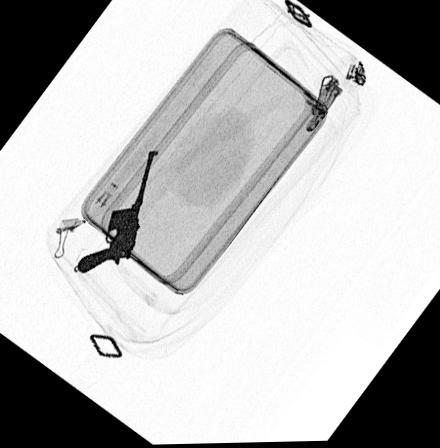Gun: (76, 151, 159, 273)
